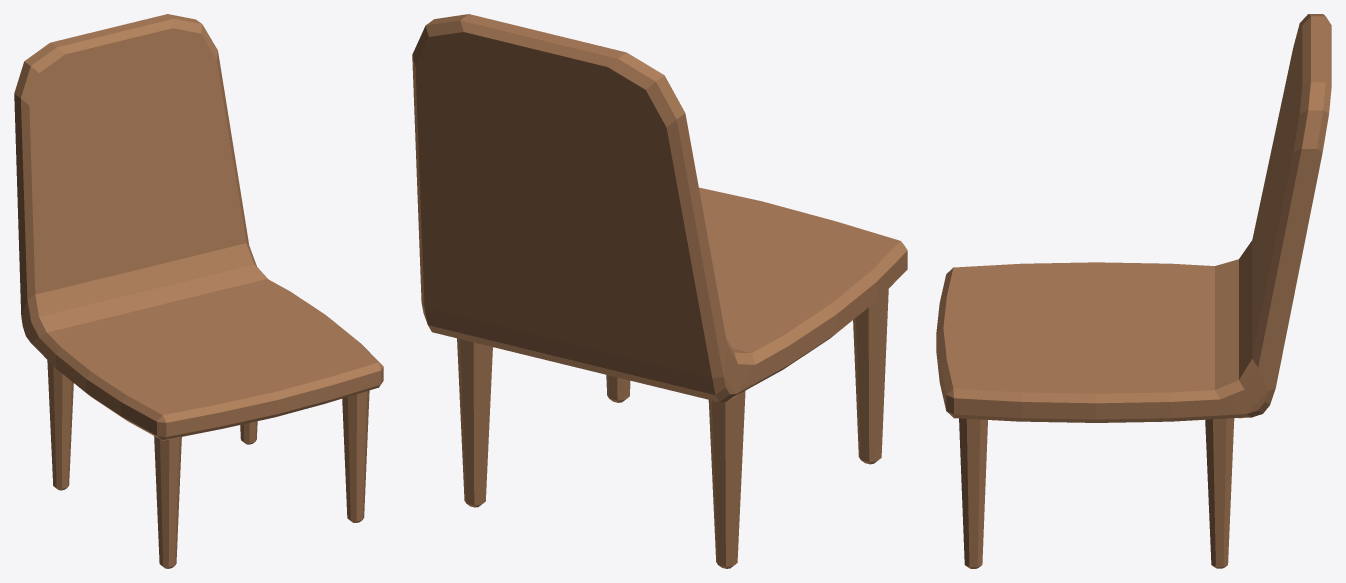
Rendered from KitchenChair.fbx.
3 renders of one model, left to right at view 1: azimuth 30°, elevation 25°; view 2: azimuth 150°, elevation 25°; view 3: azimuth 270°, elevation 25°, orthographic. The views are drawn at different scales.
Parts seen in each view (by area): view 1: KitchenChair; view 2: KitchenChair; view 3: KitchenChair.
Part boxes in pixels (x1,y1,x2,y2): KitchenChair: [14, 14, 383, 568]; KitchenChair: [412, 14, 907, 568]; KitchenChair: [936, 14, 1331, 568].
Bounding box in the file's own units: 0.4958 × 0.7814 × 0.6025.
1 material, 1 textured.
